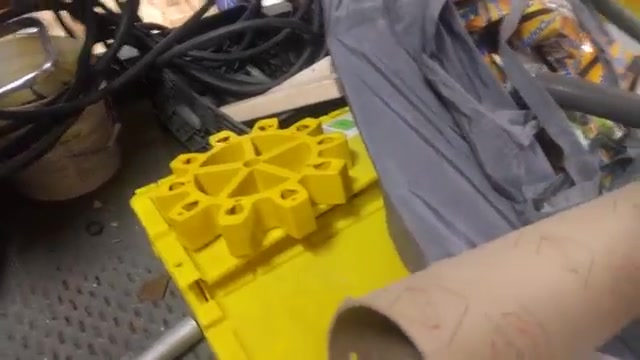gear: (151, 101, 344, 256)
